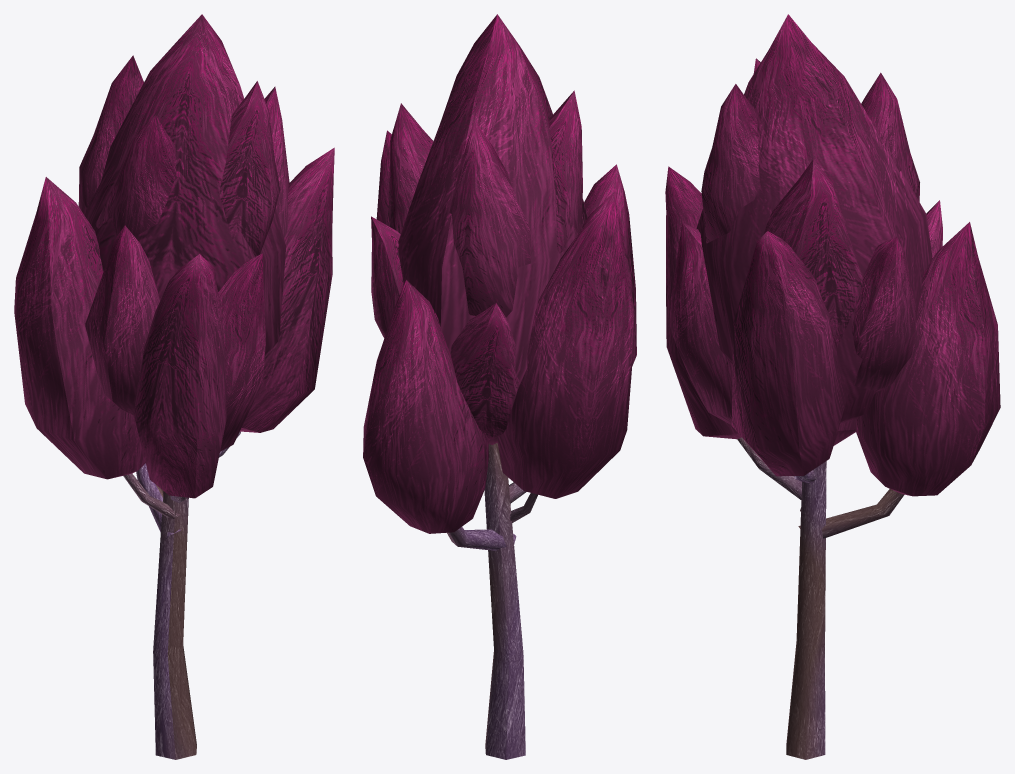
The model's file is Veg_Tree_04_a_Art.fbx.
3 renders of one model, left to right at view 1: azimuth 30°, elevation 25°; view 2: azimuth 150°, elevation 25°; view 3: azimuth 270°, elevation 25°, orthographic. The views are drawn at different scales.
Visible parts, largest first — view 1: Veg_Tree_04_a; view 2: Veg_Tree_04_a; view 3: Veg_Tree_04_a.
Boxes of the visible parts, x1,y1,x2,y2 form: Veg_Tree_04_a: (14,14,334,759); Veg_Tree_04_a: (363,14,636,759); Veg_Tree_04_a: (665,14,1000,759).
Size of what is drawn, in the model's own units: 382 by 950 by 388.
